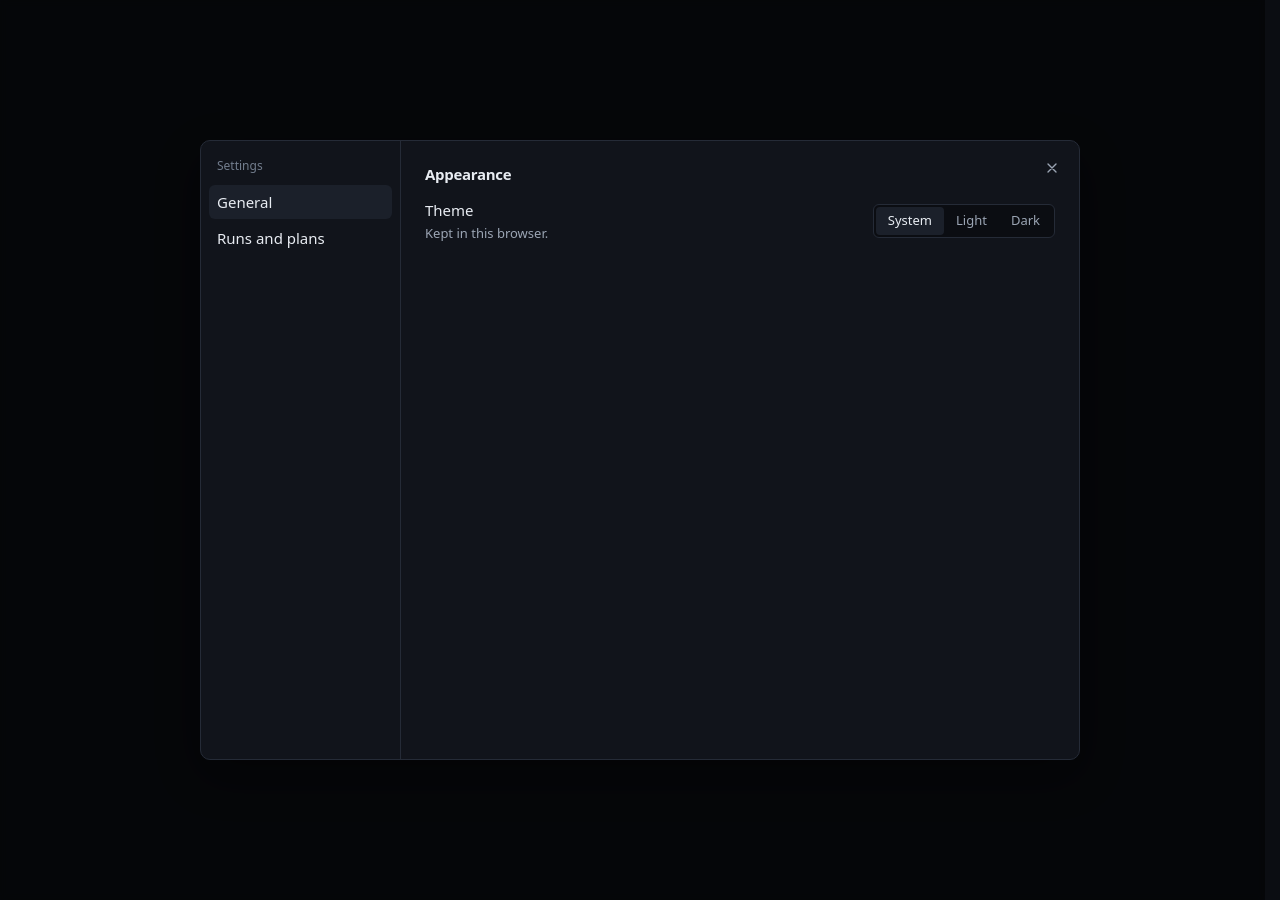
Test case: Settings › saves only what changed, refuses a value out of range, and resets
This screenshot has width=1280, height=900.
Click the button "Runs and plans". click: (300, 238)
box: 209,221 -> 392,255
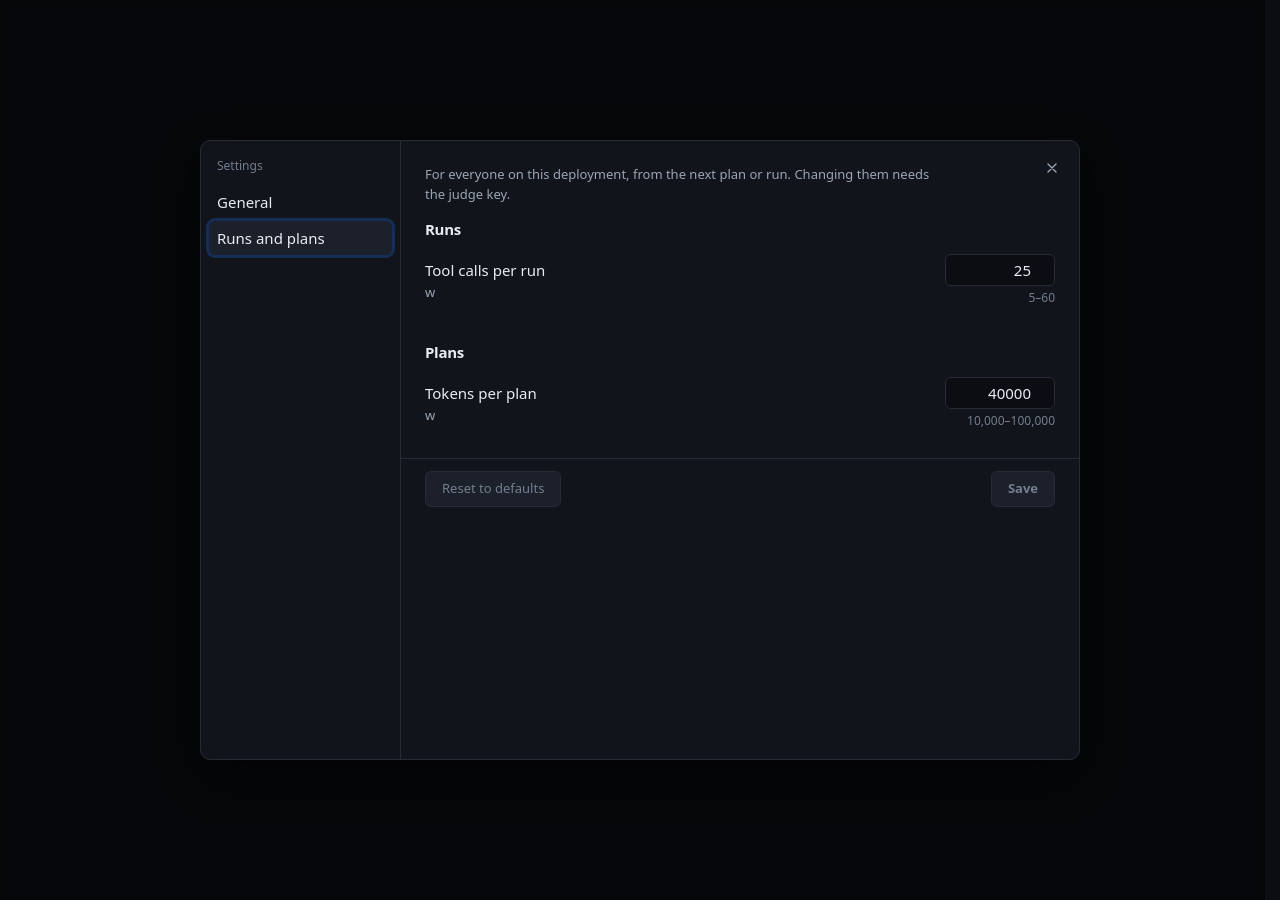
Check: the button "back to the default" is not shown
Check: the text "5–60" is shown, box 1028,289 -> 1055,307
Check: the button "Save" is disabled, box 991,471 -> 1055,507
Replace the text in the number field named "Tool calls per run" with "99". click: (1000, 270)
box: 945,254 -> 1055,286
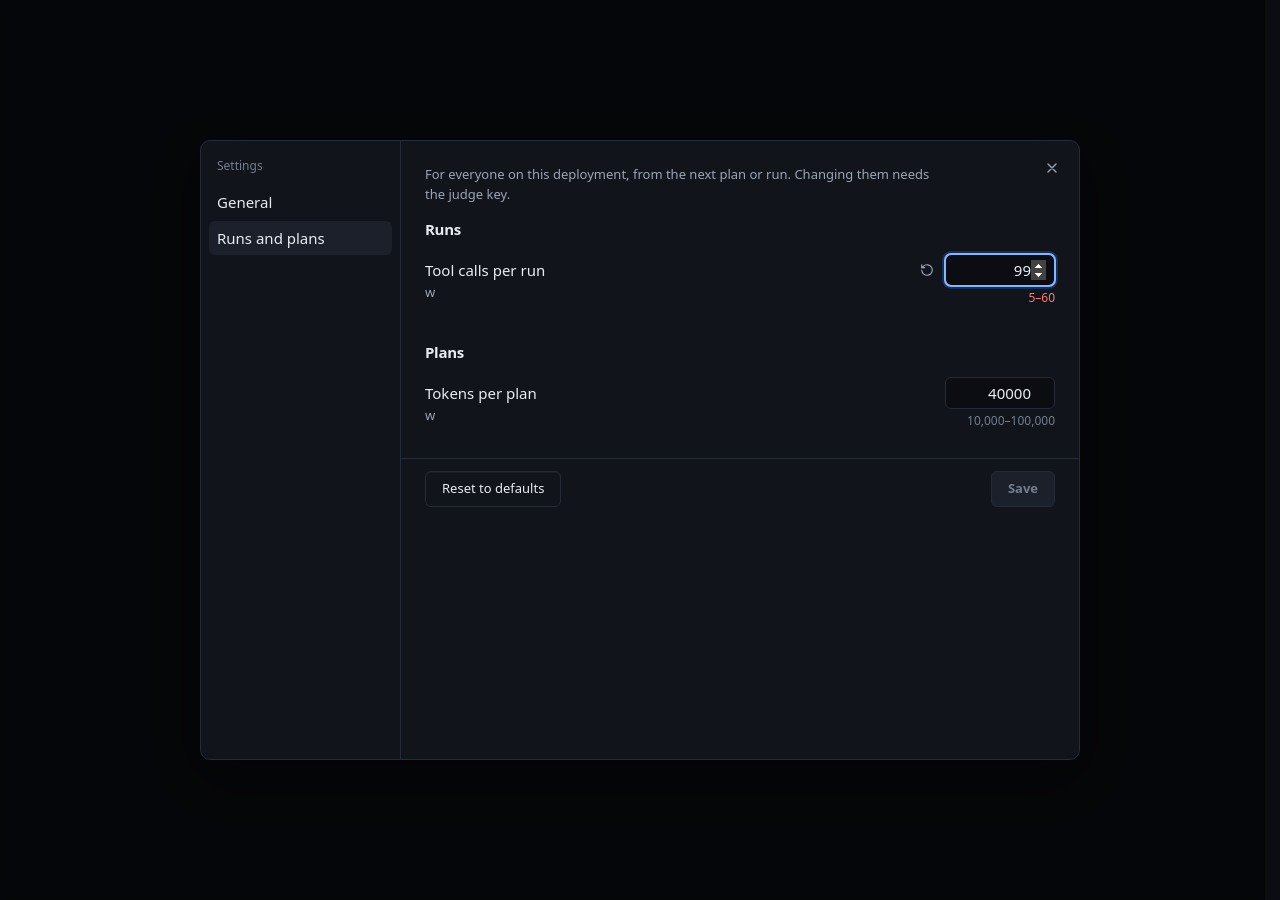
Check: the button "Save" is disabled, box 991,471 -> 1055,507
Replace the text in the number field named "Tool calls per run" with "30". click: (1000, 270)
box: 945,254 -> 1055,286
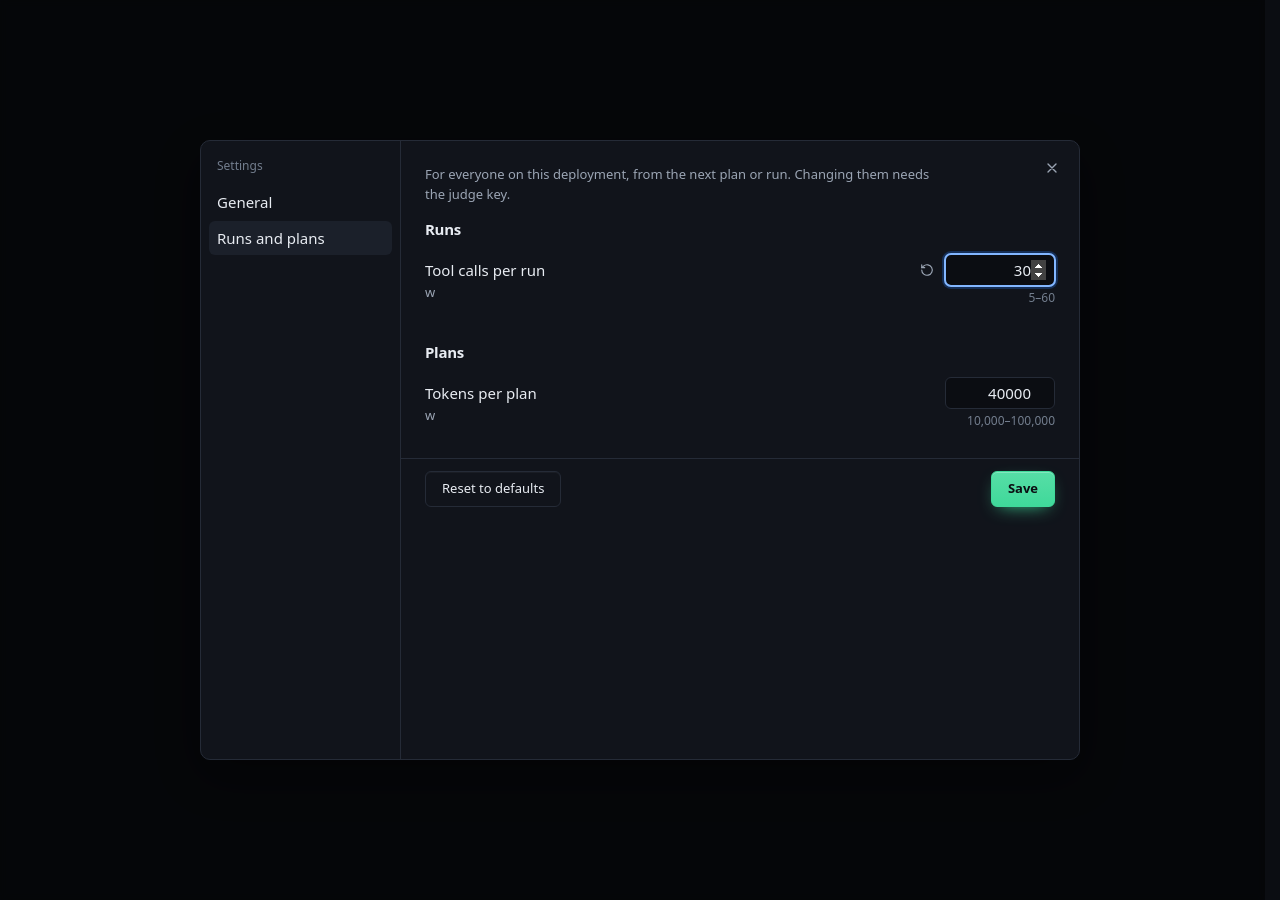
Check: the button named "Tool calls per run: back to the default, 25" is shown, box 913,256 -> 941,284
Click the button "Save". click: (1023, 489)
box: 991,471 -> 1055,507
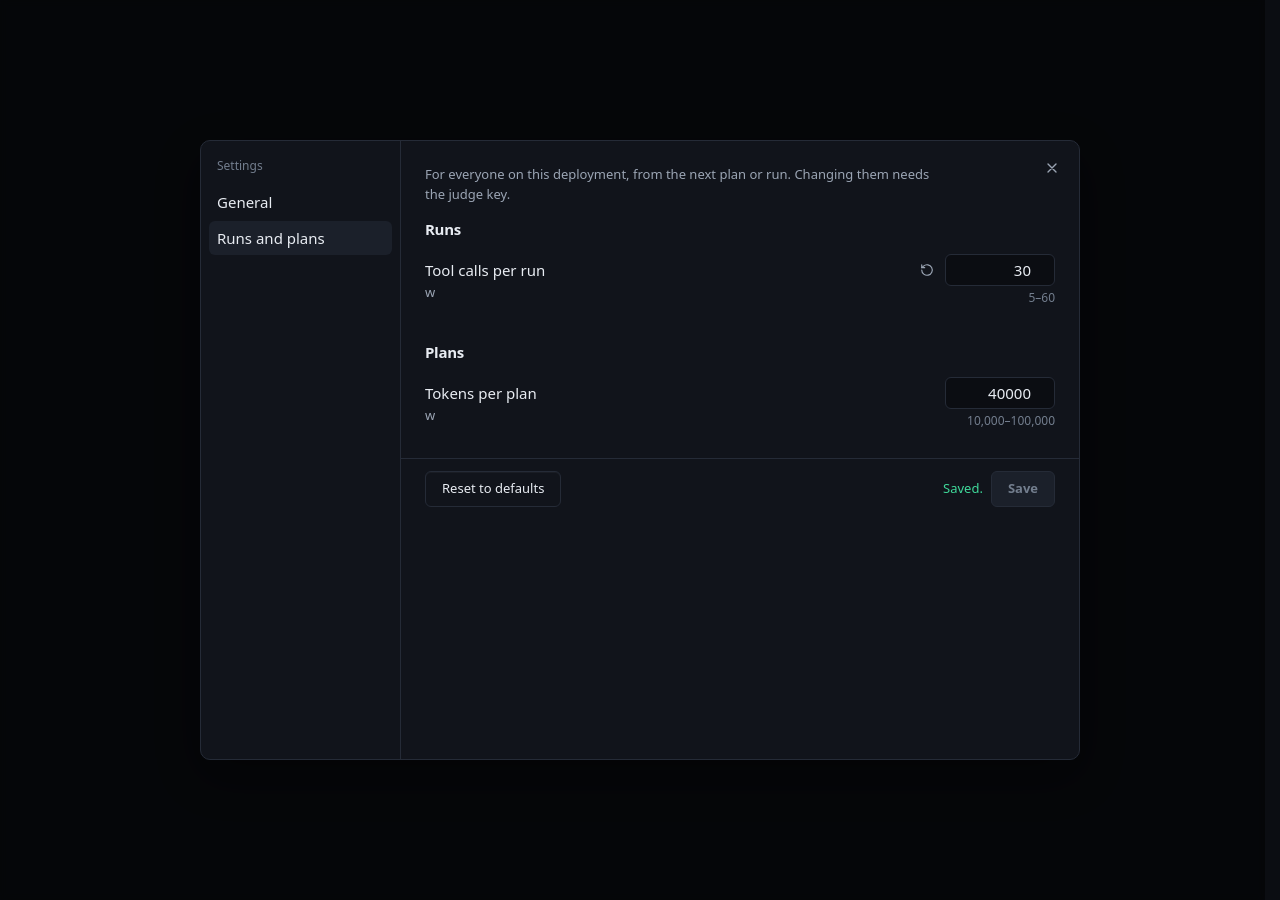
Check: the text "Saved." is shown, box 943,479 -> 983,499
Click the button "Reset to defaults". click: (493, 489)
box: 425,471 -> 561,507
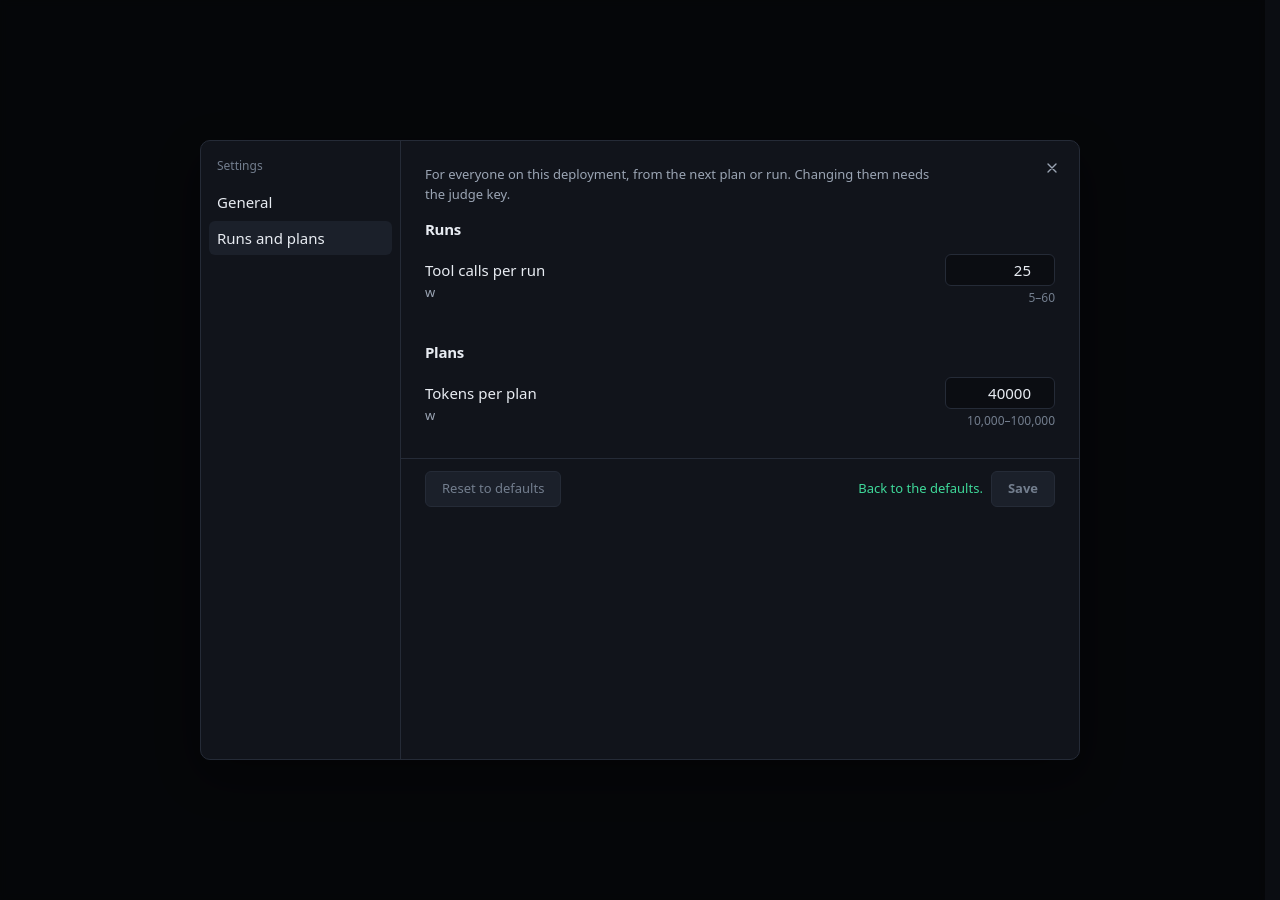
Check: the number field named "Tool calls per run" holds "25", box 945,254 -> 1055,286
